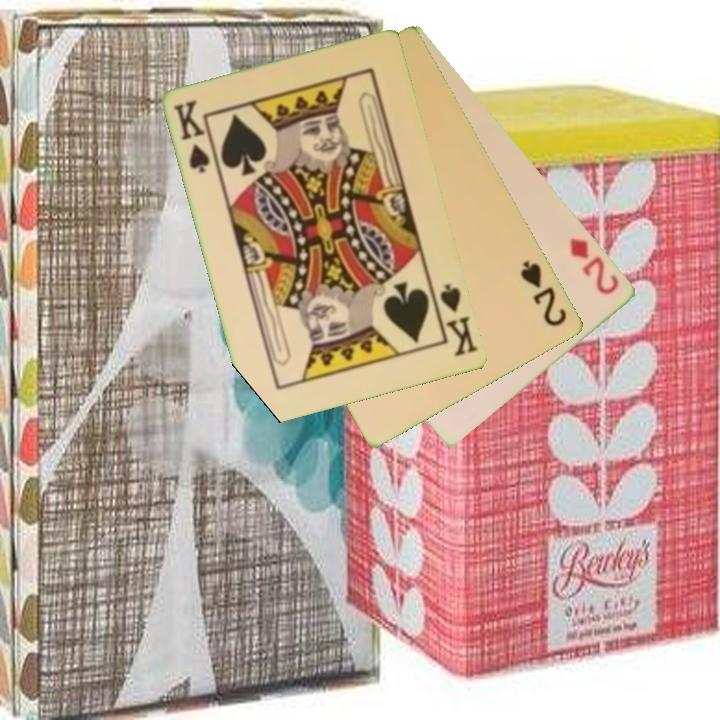2d: (566, 234, 623, 298)
2s: (517, 257, 571, 330)
Ks: (437, 280, 481, 360), (170, 97, 214, 176)
